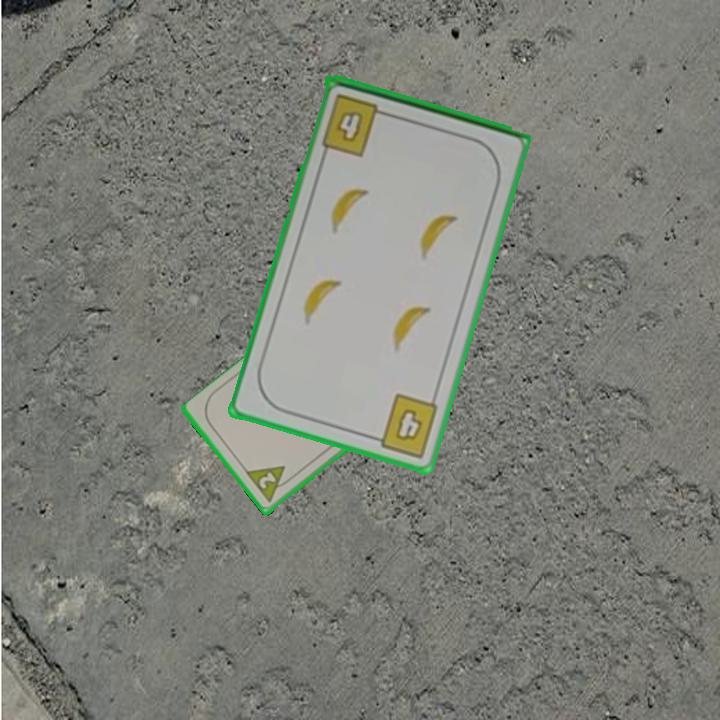2p: (243, 462, 296, 506)
4b: (366, 390, 442, 461), (318, 90, 392, 160)
